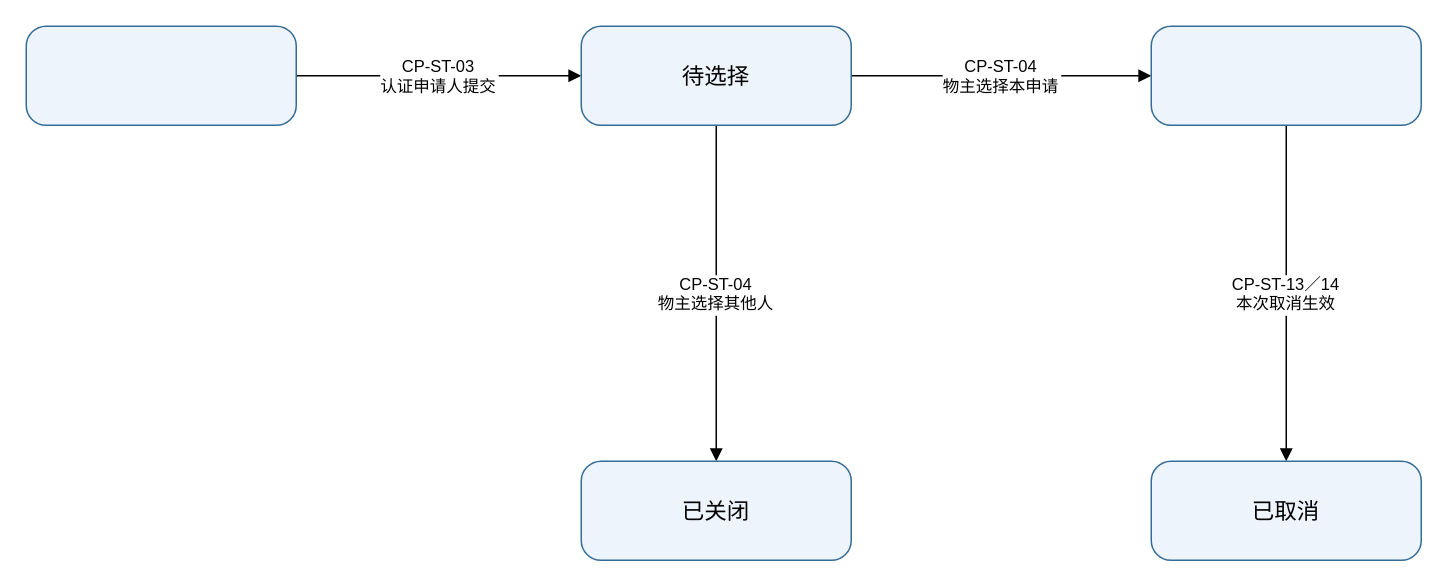
The diagram is 1448 pixels wide and 587 high, and some of its shapes have lost their labels. The shapes that lost their labels are listed below. From the top down, each one's centre as x and y in pixels, then its label:
At (x=160, y=75): "无申请".
At (x=1285, y=75): "已选中".
